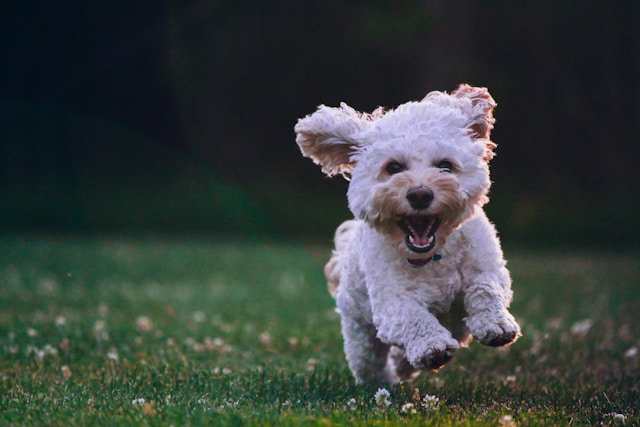dog: (150, 120, 500, 400)
